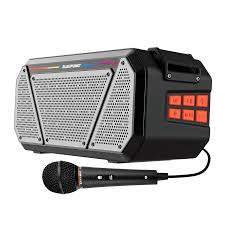microphone: (37, 162, 179, 203)
speaker: (4, 43, 215, 161)
